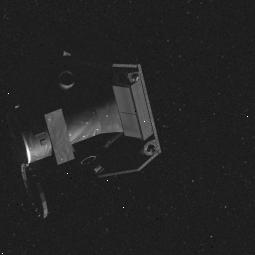cheops: (0, 51, 172, 220)
